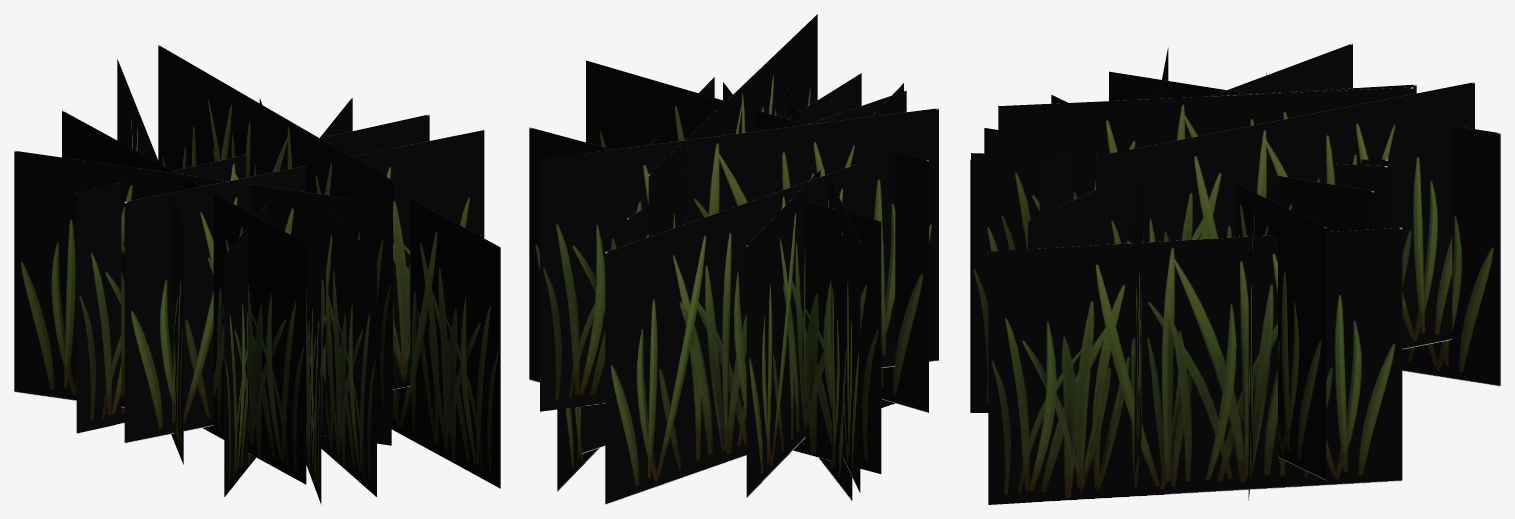
Rendered from grass.glb.
3 views of the same model, side by side, from view 1: azimuth 30°, elevation 25°; view 2: azimuth 150°, elevation 25°; view 3: azimuth 270°, elevation 25° (orthographic). The views are drawn at different scales.
Parts seen in each view (by area): view 1: Grass_green.013; view 2: Grass_green.013; view 3: Grass_green.013.
Part boxes in pixels (x1,y1,x2,y2): Grass_green.013: (14, 45, 500, 504); Grass_green.013: (529, 14, 938, 504); Grass_green.013: (970, 43, 1500, 504).
Size of the model in its own units: 1.59 by 1.37 by 1.9.
1 material, 1 textured.
